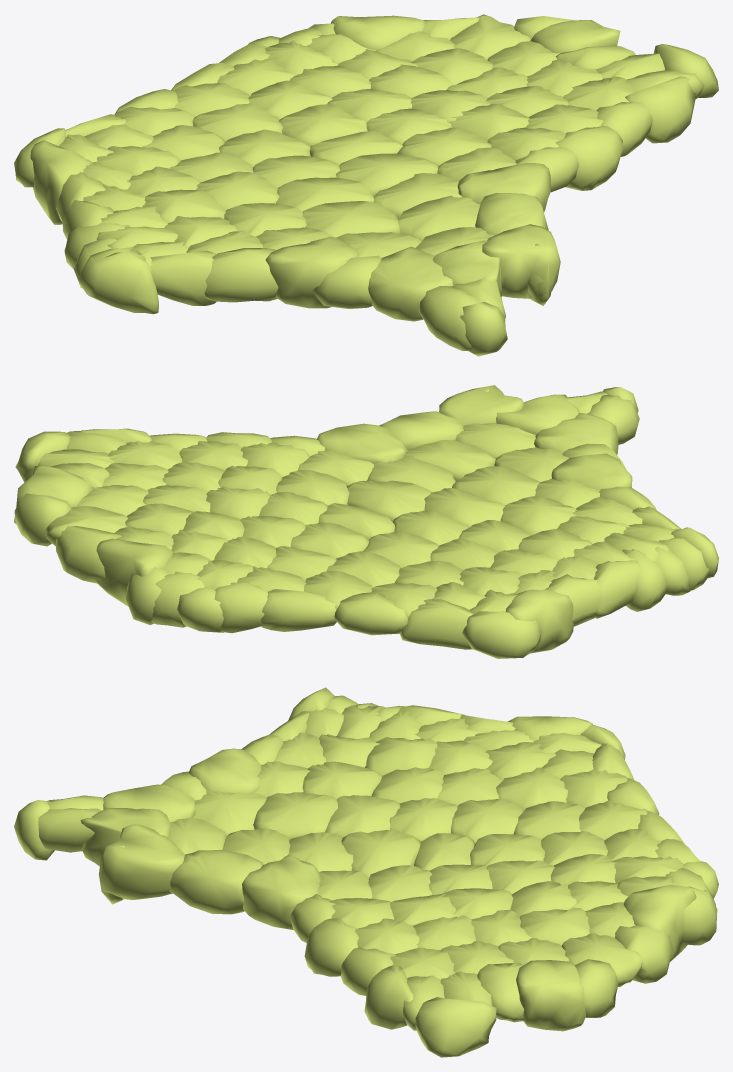
File: Islands1.007_fog.fbx
3 views of the same model, one above another, from view 1: azimuth 30°, elevation 25°; view 2: azimuth 150°, elevation 25°; view 3: azimuth 270°, elevation 25° (orthographic). The views are drawn at different scales.
Visible parts, largest first — view 1: Island1.007_fog_cell.003, Island1.007_fog_cell.078, Island1.007_fog_cell.079, Island1.007_fog_cell.046, Island1.007_fog_cell.055, Island1.007_fog_cell.061, Island1.007_fog_cell.035, Island1.007_fog_cell.047, Island1.007_fog_cell.033, Island1.007_fog_cell.045, Island1.007_fog_cell.009, Island1.007_fog_cell.056 (+77 smaller); view 2: Island1.007_fog_cell.050, Island1.007_fog_cell.057, Island1.007_fog_cell.009, Island1.007_fog_cell.001, Island1.007_fog_cell.069, Island1.007_fog_cell.045, Island1.007_fog_cell.012, Island1.007_fog_cell.056, Island1.007_fog_cell.075, Island1.007_fog_cell.003, Island1.007_fog_cell.033, Island1.007_fog_cell.078 (+80 smaller); view 3: Island1.007_fog_cell.078, Island1.007_fog_cell.082, Island1.007_fog_cell.071, Island1.007_fog_cell.045, Island1.007_fog_cell.085, Island1.007_fog_cell.033, Island1.007_fog_cell.057, Island1.007_fog_cell.056, Island1.007_fog_cell.079, Island1.007_fog_cell.073, Island1.007_fog_cell.035, Island1.007_fog_cell.061 (+78 smaller).
Boxes of the visible parts, x1,y1,x2,y2 form: Island1.007_fog_cell.003: [368, 246, 453, 321]; Island1.007_fog_cell.078: [482, 224, 560, 298]; Island1.007_fog_cell.079: [265, 236, 359, 308]; Island1.007_fog_cell.046: [81, 250, 158, 314]; Island1.007_fog_cell.055: [204, 248, 278, 302]; Island1.007_fog_cell.061: [555, 126, 622, 190]; Island1.007_fog_cell.035: [625, 76, 695, 143]; Island1.007_fog_cell.047: [150, 250, 216, 305]; Island1.007_fog_cell.033: [302, 201, 400, 237]; Island1.007_fog_cell.045: [457, 163, 550, 211]; Island1.007_fog_cell.009: [30, 140, 92, 224]; Island1.007_fog_cell.056: [336, 153, 438, 195]; Island1.007_fog_cell.050: [462, 611, 541, 658]; Island1.007_fog_cell.057: [95, 538, 173, 606]; Island1.007_fog_cell.009: [506, 589, 573, 653]; Island1.007_fog_cell.001: [261, 589, 336, 631]; Island1.007_fog_cell.069: [400, 599, 474, 649]; Island1.007_fog_cell.045: [317, 423, 407, 464]; Island1.007_fog_cell.012: [334, 592, 407, 635]; Island1.007_fog_cell.056: [347, 480, 431, 521]; Island1.007_fog_cell.075: [56, 526, 121, 583]; Island1.007_fog_cell.003: [534, 413, 618, 454]; Island1.007_fog_cell.033: [452, 466, 539, 505]; Island1.007_fog_cell.078: [439, 385, 523, 425]; Island1.007_fog_cell.078: [100, 824, 184, 899]; Island1.007_fog_cell.082: [169, 850, 263, 914]; Island1.007_fog_cell.071: [516, 960, 585, 1031]; Island1.007_fog_cell.045: [242, 854, 320, 929]; Island1.007_fog_cell.085: [415, 997, 496, 1057]; Island1.007_fog_cell.033: [253, 792, 337, 840]; Island1.007_fog_cell.057: [623, 884, 696, 961]; Island1.007_fog_cell.056: [341, 830, 421, 879]; Island1.007_fog_cell.079: [188, 748, 261, 794]; Island1.007_fog_cell.073: [80, 808, 170, 866]; Island1.007_fog_cell.035: [364, 964, 413, 1029]; Island1.007_fog_cell.061: [304, 917, 358, 976].
Size of the model in its own units: 136 by 11.48 by 120.
